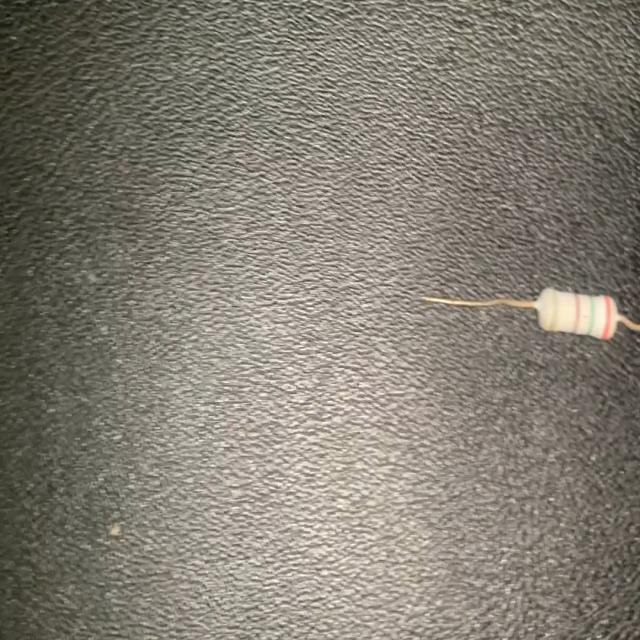resistor: (417, 272, 640, 343)
